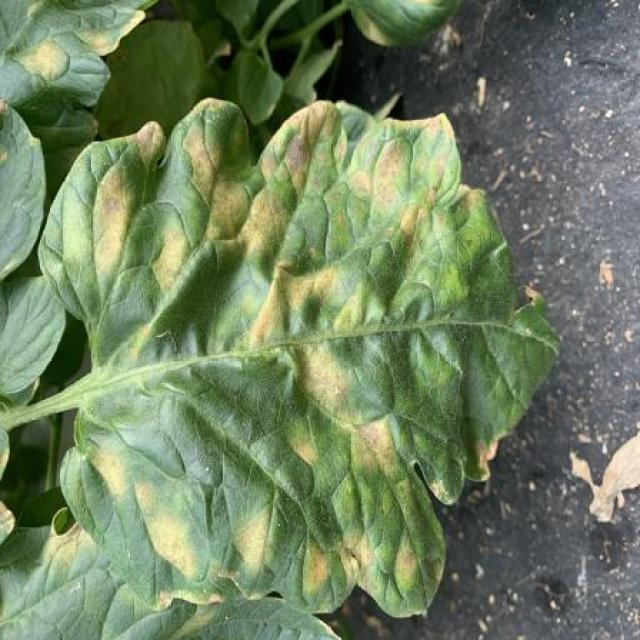Leaf Mold: (47, 99, 563, 621)
